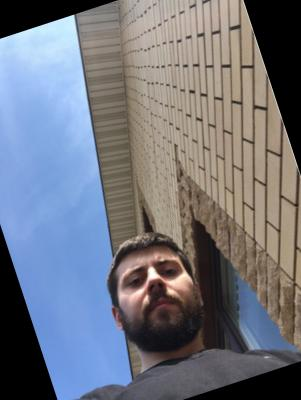without_mask: (110, 249, 211, 360)
